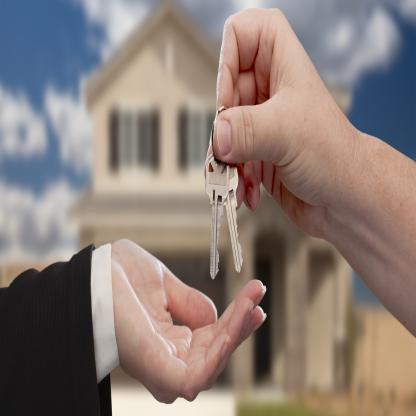keys: (204, 147, 243, 281)
